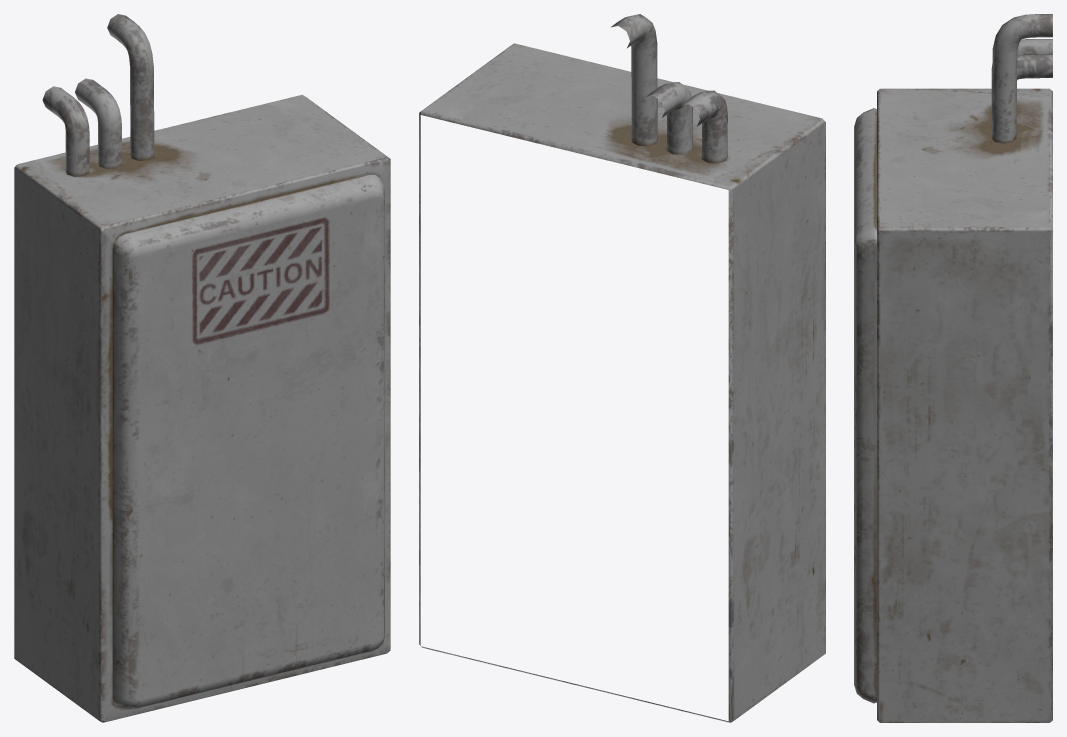
The model's file is SM_electric_box_s.gltf.
3 renders of one model, left to right at view 1: azimuth 30°, elevation 25°; view 2: azimuth 150°, elevation 25°; view 3: azimuth 270°, elevation 25°, orthographic. The views are drawn at different scales.
Visible parts, largest first — view 1: SM_electric_box_s; view 2: SM_electric_box_s; view 3: SM_electric_box_s.
Boxes of the visible parts, box(x1,y1,x2,y2) form: SM_electric_box_s: box(14, 14, 390, 722); SM_electric_box_s: box(419, 14, 825, 722); SM_electric_box_s: box(854, 14, 1052, 722).
Bounding box in the file's own units: 0.4556 × 0.9282 × 0.27.
Materials: 1 (1 with a texture image).
